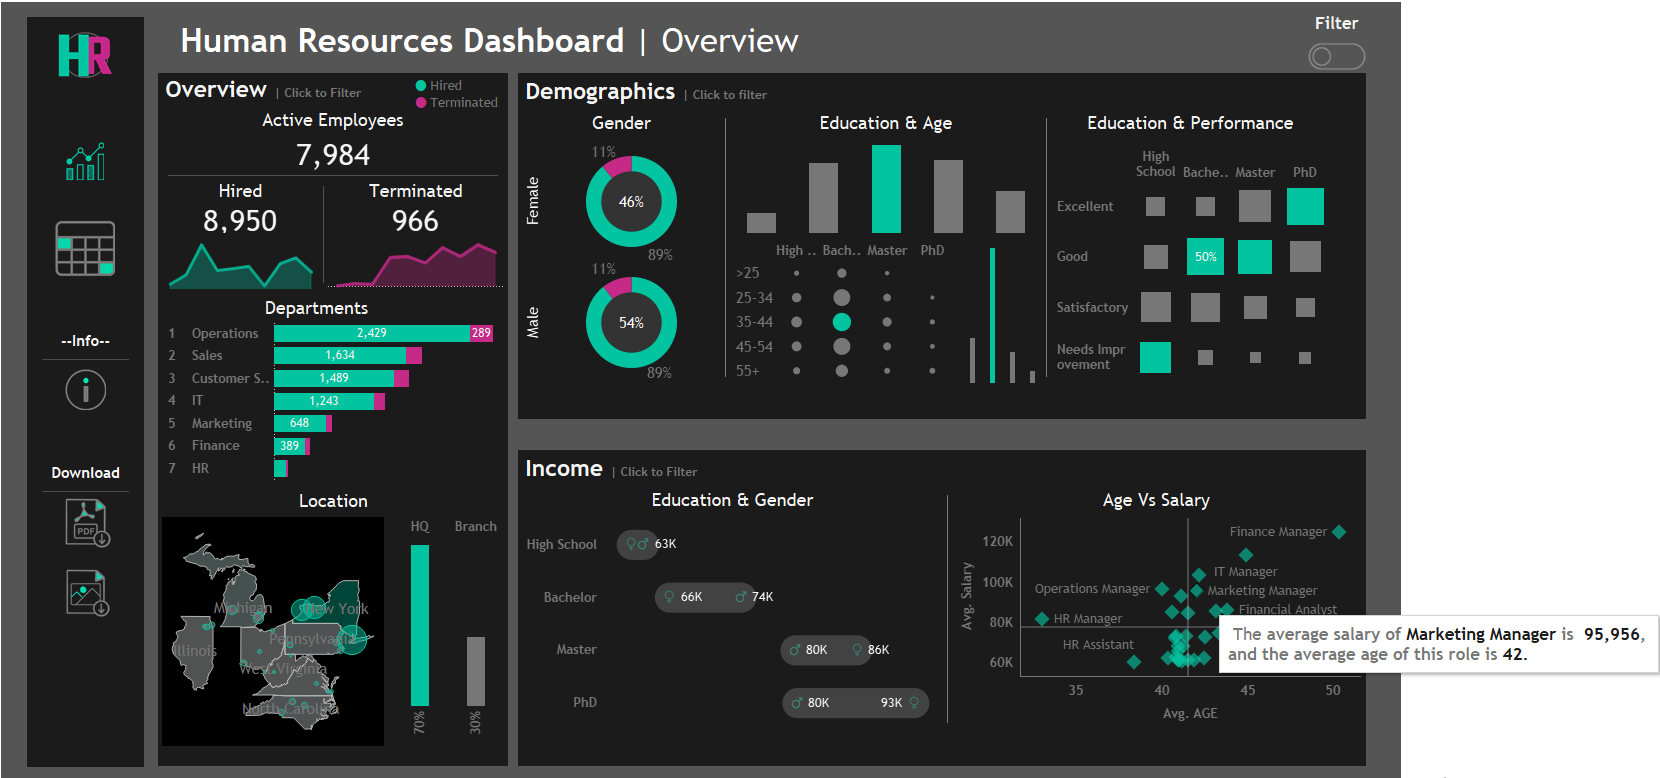

This screenshot's page, from the dashboard's own definition file:
{"tool":"tableau","page":{"name":"HR | Summary (3)","canvas":[1400,800],"ordinal":3},"visuals":[{"type":"blank","box":[7,7,130,393]},{"type":"text","box":[143,7,676,64]},{"type":"blank","box":[819,7,536,64]},{"type":"text","box":[149,77,352,32]},{"type":"text","box":[509,79,838,35]},{"type":"text","box":[149,109,352,29]},{"type":"text","box":[511,116,207,29]},{"type":"blank","box":[718,116,25,246]},{"type":"text","box":[743,116,261,29]},{"type":"blank","box":[1004,116,25,246]},{"type":"text","box":[1029,116,316,29]},{"type":"worksheet","title":"Active","mark":"Text","box":[149,138,352,41]},{"type":"worksheet","title":"Gender","mark":"Pie","rows":["Gender"],"cols":["Calculation_1937110846429085710","Calculation_1937110846429085710"],"box":[511,145,207,217]},{"type":"worksheet","title":"Age Group","mark":"Bar","rows":["Calculation_1937110846402056192"],"cols":["Calculation_1937110846440509456"],"box":[743,145,261,100]},{"type":"worksheet","title":"Education VS Performance","mark":"Square","rows":["Performance Rating"],"cols":["Education Level"],"box":[1029,145,316,217]},{"type":"blank","box":[149,179,352,25]},{"type":"text","box":[151,206,165,29]},{"type":"blank","box":[316,206,17,113]},{"type":"text","box":[333,206,166,29]},{"type":"worksheet","title":"HIRED","mark":"Text","box":[151,235,165,32]},{"type":"worksheet","title":"Terminated","mark":"Text","box":[333,235,166,32]},{"type":"worksheet","title":"Age VS Education","mark":"Pie","rows":["Calculation_1937110846440509456"],"cols":["Education Level"],"box":[743,245,152.5,117]},{"type":"worksheet","title":"Education Level","mark":"Bar","rows":["Calculation_1937110846402056192"],"cols":["Education Level"],"box":[895.5,245,108.5,117]},{"type":"worksheet","title":"Hired by Years","mark":"Line","rows":["Calculation_1937110846402056192","Calculation_1937110846402056192"],"cols":["Hiredate"],"box":[151,267,165,52]},{"type":"worksheet","title":"Terminated by Years","mark":"Line","rows":["Calculation_1937110846402326529","Calculation_1937110846402326529"],"cols":["Termdate"],"box":[333,267,166,52]},{"type":"blank","box":[149,321,118.7,25]},{"type":"text","box":[267.7,321,114.7,25]},{"type":"blank","box":[382.3,321,118.7,25]},{"type":"worksheet","title":"Departments","mark":"Bar","rows":["Calculation_1937110846415405062","Department"],"cols":["Calculation_1937110846402056192"],"box":[149,346,352,166]},{"type":"blank","box":[7,400,130,393]},{"type":"text","box":[509,415,838,35]},{"type":"text","box":[511,452,410.5,29]},{"type":"blank","box":[921.5,452,25,220]},{"type":"text","box":[946.5,452,398.5,29]},{"type":"worksheet","title":"Education VS Gender Level","mark":"Square","rows":["Education Level"],"cols":["Salary","Salary"],"box":[511,481,410.5,191]},{"type":"worksheet","title":"Age VS Salary","mark":"Shape","rows":["Salary"],"cols":["Calculation_1937110846439919631"],"box":[946.5,481,398.5,191]},{"type":"blank","box":[149,512,120,24]},{"type":"text","box":[269,512,112,24]},{"type":"blank","box":[381,512,120,24]},{"type":"worksheet","title":"MAP STATE","mark":"Automatic","box":[149,536,292,222]},{"type":"worksheet","title":"Location","mark":"Bar","rows":["Calculation_1937110846402056192"],"cols":["Calculation_1937110846422126599","Calculation1"],"box":[441,536,60,222]}]}

Visuals, with their boxes on the page's 1400x800 design canvas (x1, y1, x2, y2). These are canvas units, not pixel positions in the 1660x778 screenshot, which may show the page scaled, cropped or inside an application window:
blank: rect(7, 7, 137, 400)
text: rect(143, 7, 819, 71)
blank: rect(819, 7, 1355, 71)
text: rect(149, 77, 501, 109)
text: rect(509, 79, 1347, 114)
text: rect(149, 109, 501, 138)
text: rect(511, 116, 718, 145)
blank: rect(718, 116, 743, 362)
text: rect(743, 116, 1004, 145)
blank: rect(1004, 116, 1029, 362)
text: rect(1029, 116, 1345, 145)
"Active" worksheet (Text marks): rect(149, 138, 501, 179)
"Gender" worksheet (Pie marks): rect(511, 145, 718, 362)
"Age Group" worksheet (Bar marks): rect(743, 145, 1004, 245)
"Education VS Performance" worksheet (Square marks): rect(1029, 145, 1345, 362)
blank: rect(149, 179, 501, 204)
text: rect(151, 206, 316, 235)
blank: rect(316, 206, 333, 319)
text: rect(333, 206, 499, 235)
"HIRED" worksheet (Text marks): rect(151, 235, 316, 267)
"Terminated" worksheet (Text marks): rect(333, 235, 499, 267)
"Age VS Education" worksheet (Pie marks): rect(743, 245, 896, 362)
"Education Level" worksheet (Bar marks): rect(896, 245, 1004, 362)
"Hired by Years" worksheet (Line marks): rect(151, 267, 316, 319)
"Terminated by Years" worksheet (Line marks): rect(333, 267, 499, 319)
blank: rect(149, 321, 268, 346)
text: rect(268, 321, 382, 346)
blank: rect(382, 321, 501, 346)
"Departments" worksheet (Bar marks): rect(149, 346, 501, 512)
blank: rect(7, 400, 137, 793)
text: rect(509, 415, 1347, 450)
text: rect(511, 452, 922, 481)
blank: rect(922, 452, 946, 672)
text: rect(946, 452, 1345, 481)
"Education VS Gender Level" worksheet (Square marks): rect(511, 481, 922, 672)
"Age VS Salary" worksheet (Shape marks): rect(946, 481, 1345, 672)
blank: rect(149, 512, 269, 536)
text: rect(269, 512, 381, 536)
blank: rect(381, 512, 501, 536)
"MAP STATE" worksheet: rect(149, 536, 441, 758)
"Location" worksheet (Bar marks): rect(441, 536, 501, 758)
